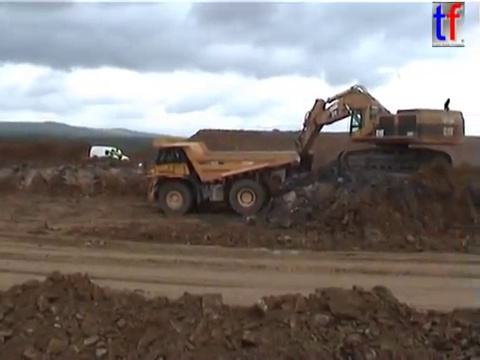excavator: (281, 82, 467, 186)
truck: (136, 135, 301, 216)
worker: (114, 145, 124, 165), (107, 145, 116, 164)
